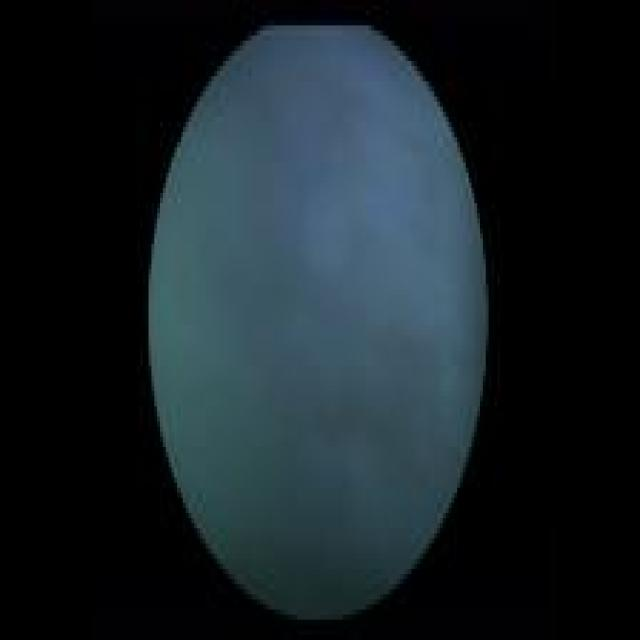blur: (146, 21, 488, 620)
color misalignment: (146, 21, 488, 619)
